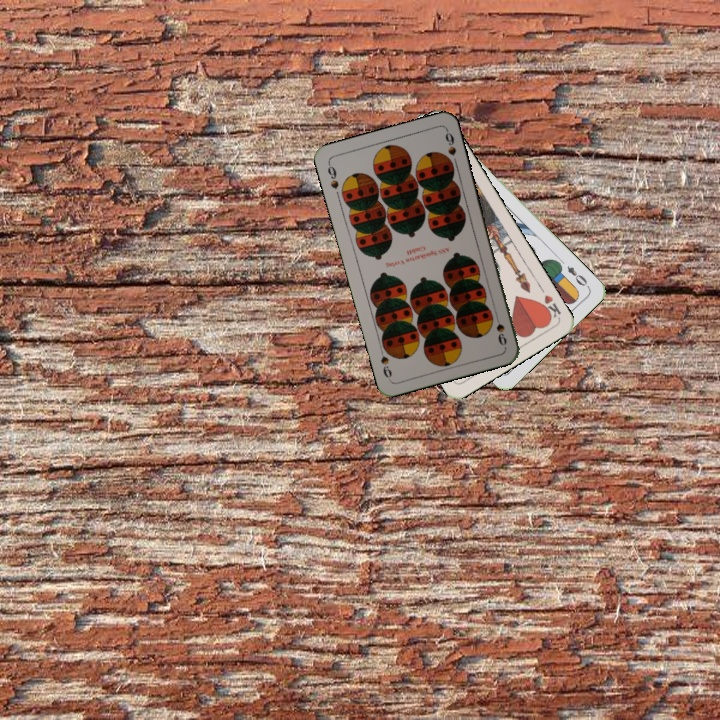EO: (563, 262, 592, 290)
HK: (536, 283, 564, 323)
S9: (491, 308, 509, 348), (324, 159, 341, 192)
